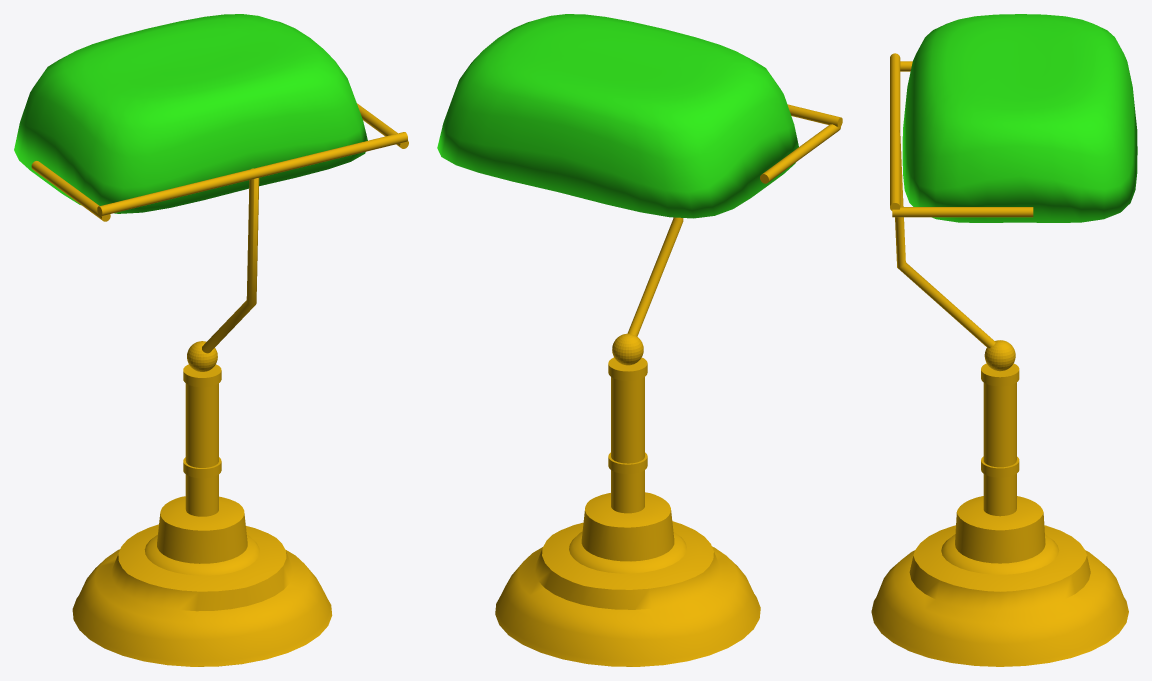
File: GreenLamp.fbx
The picture shows the model from 3 angles, left to right: view 1: azimuth 30°, elevation 25°; view 2: azimuth 150°, elevation 25°; view 3: azimuth 270°, elevation 25°; orthographic projection. The views are drawn at different scales.
Visible parts, largest first — view 1: Lamp; view 2: Lamp; view 3: Lamp.
Boxes of the visible parts, left/top/right/bottom form: Lamp: left=14, top=14, right=408, bottom=666; Lamp: left=437, top=14, right=842, bottom=666; Lamp: left=871, top=14, right=1137, bottom=666.
Bounding box in the file's own units: 278 × 474 × 208.
